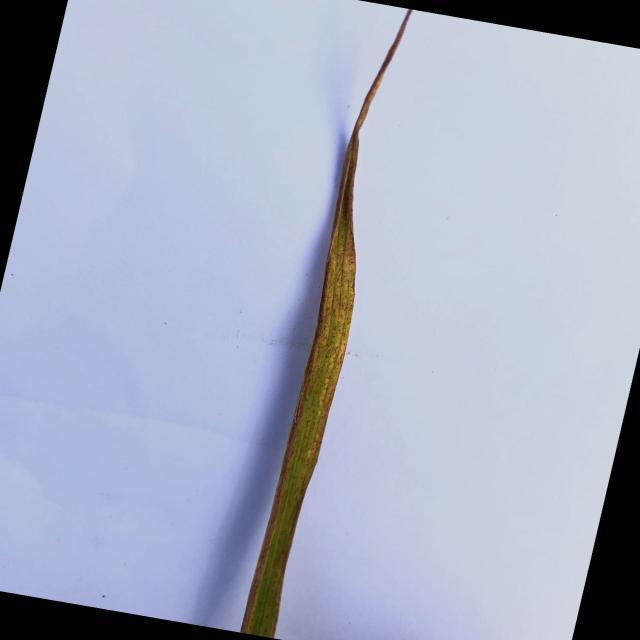Rice Tungro: (291, 131, 376, 460)
